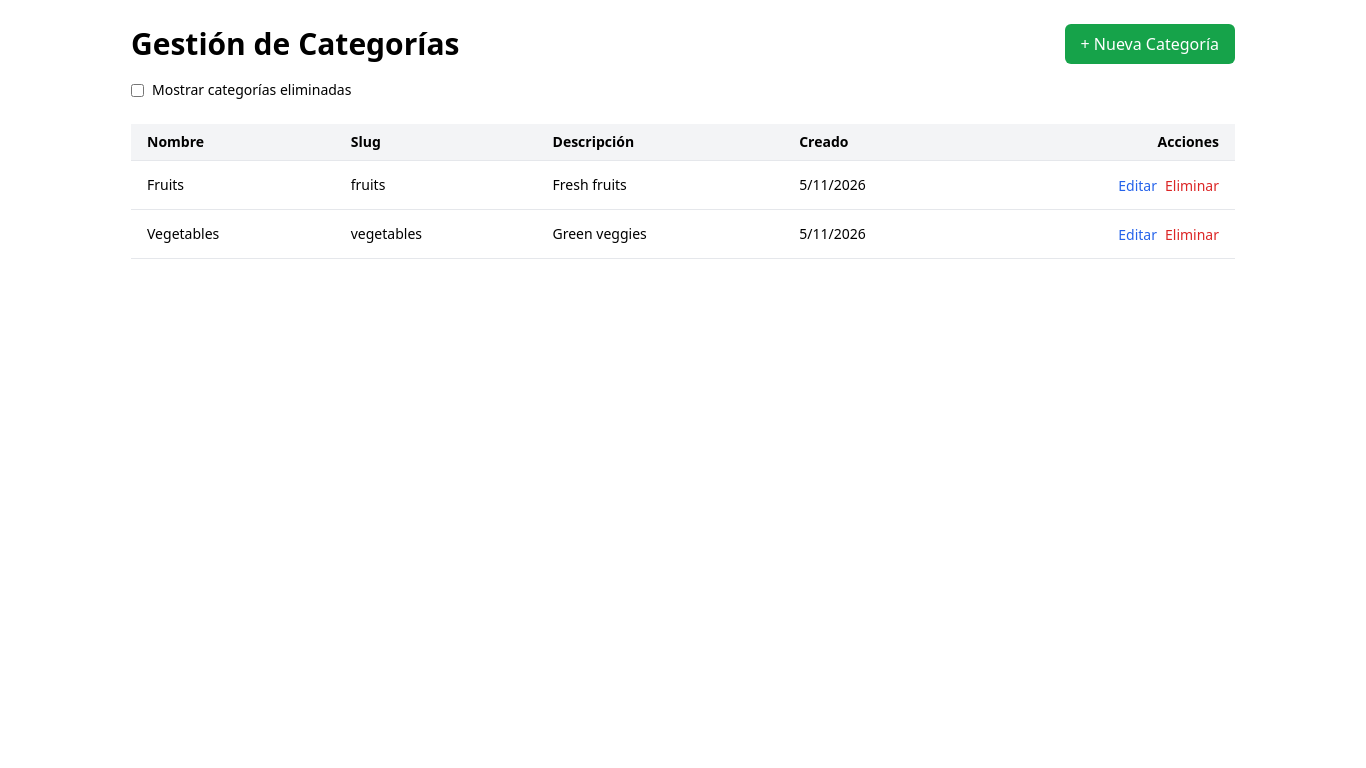
it: CategoriesPage › opens edit modal when edit action is clicked
The width and height of the screenshot is (1366, 768).
Click the button "Editar" in the row of "Fresh fruits" at (1138, 186), box 1118,176 -> 1157,196
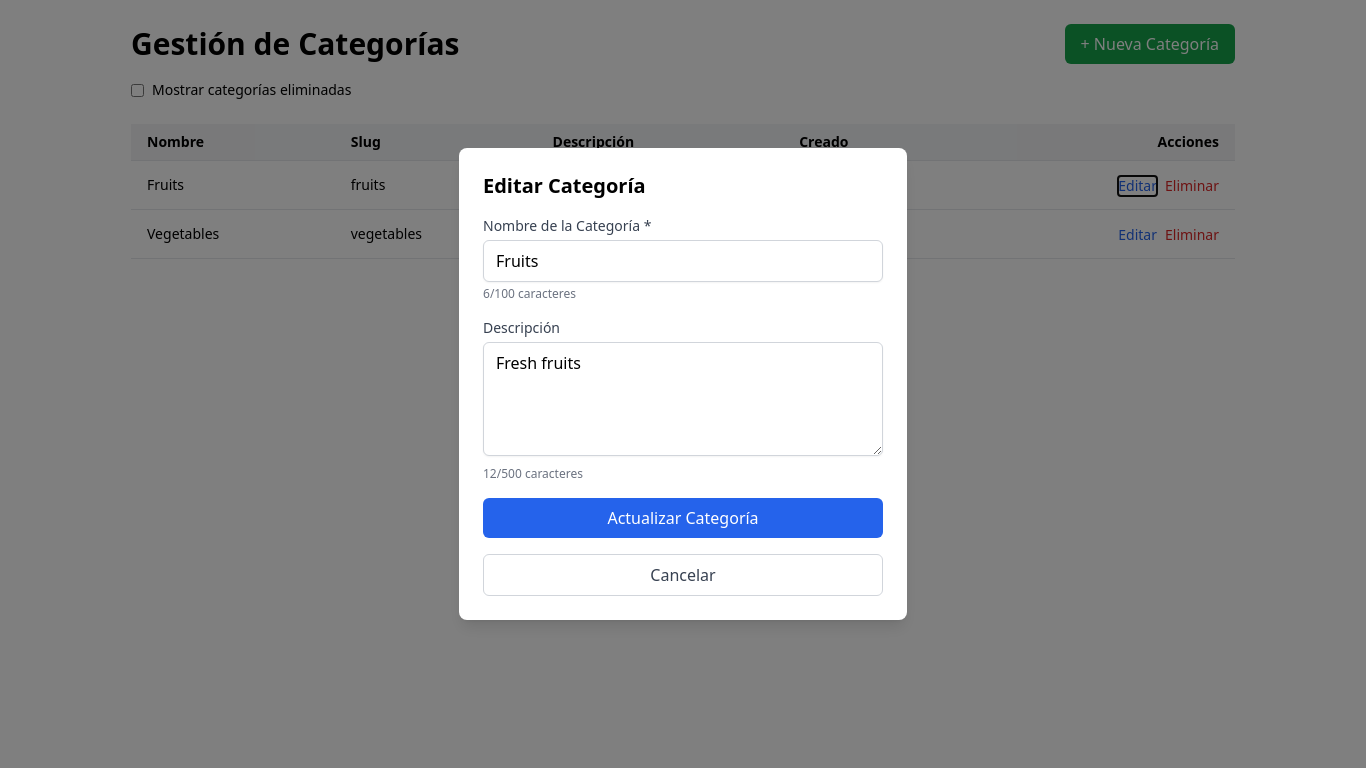
Expected: the heading "Editar Categoría" is shown, 483,172 -> 646,199
